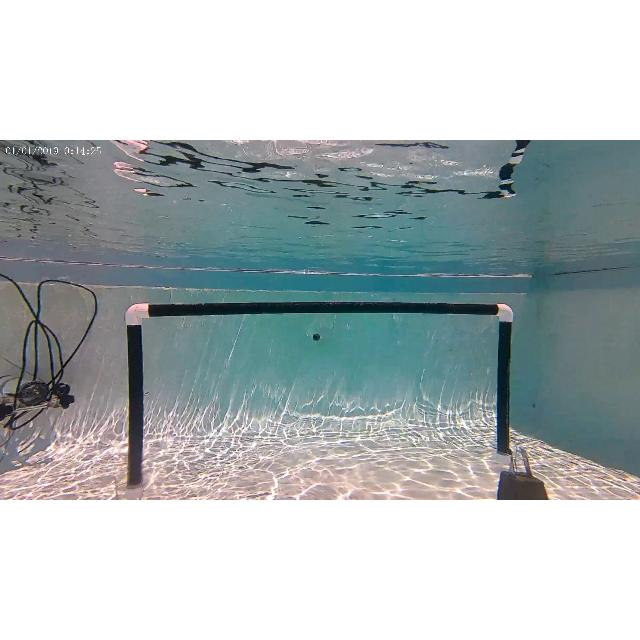prequal gate: (125, 300, 512, 488)
prequal gate leg l: (119, 298, 160, 500)
prequal gate leg r: (479, 296, 525, 469)
